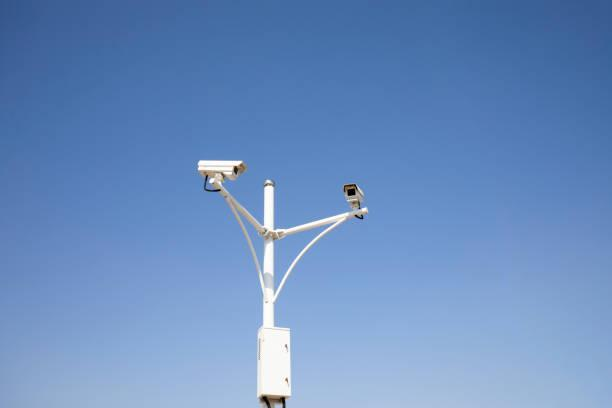camera: (191, 143, 251, 196), (335, 175, 376, 229)
